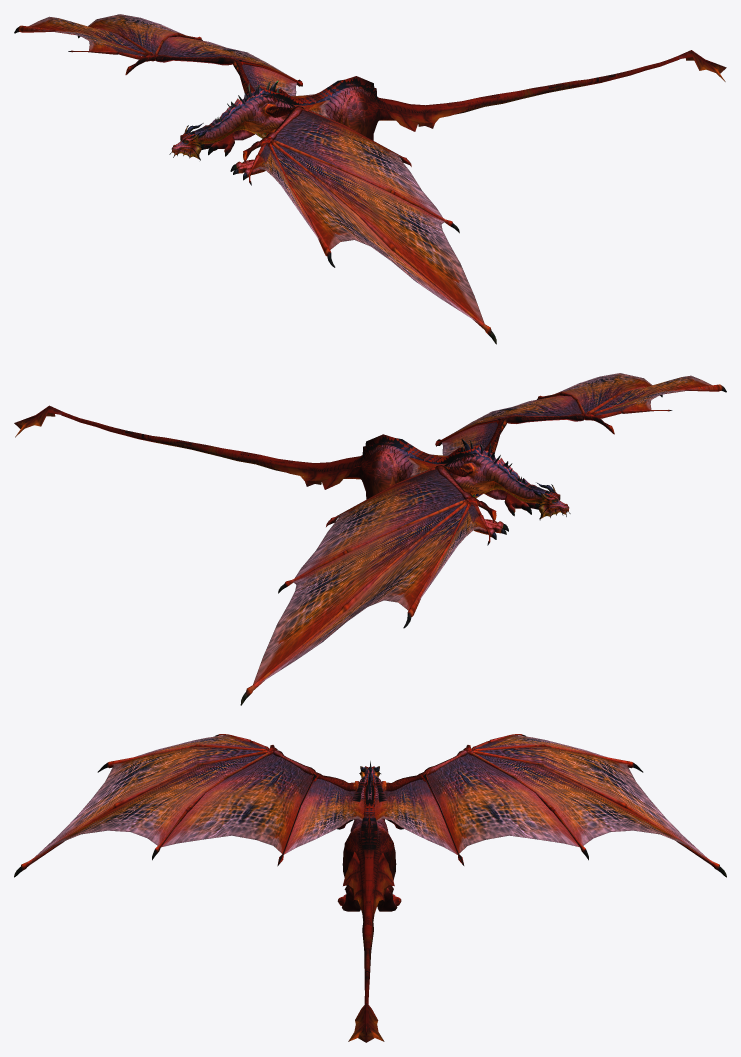
Rendered from SMAUG_GEOM.fbx.
The picture shows the model from 3 angles, top to bottom: view 1: azimuth 30°, elevation 25°; view 2: azimuth 150°, elevation 25°; view 3: azimuth 270°, elevation 25°; orthographic projection. The views are drawn at different scales.
Visible parts, largest first — view 1: SMAUG_GEOM; view 2: SMAUG_GEOM; view 3: SMAUG_GEOM.
Boxes of the visible parts, x1,y1,x2,y2 form: SMAUG_GEOM: [14, 14, 726, 344]; SMAUG_GEOM: [14, 373, 726, 705]; SMAUG_GEOM: [14, 734, 726, 1042].
Size of the model in its own units: 650245 by 138307 by 835244.
Materials: 5 (5 with a texture image).
